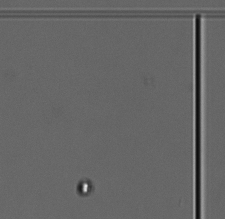Living Cell: (76, 179, 94, 197)
